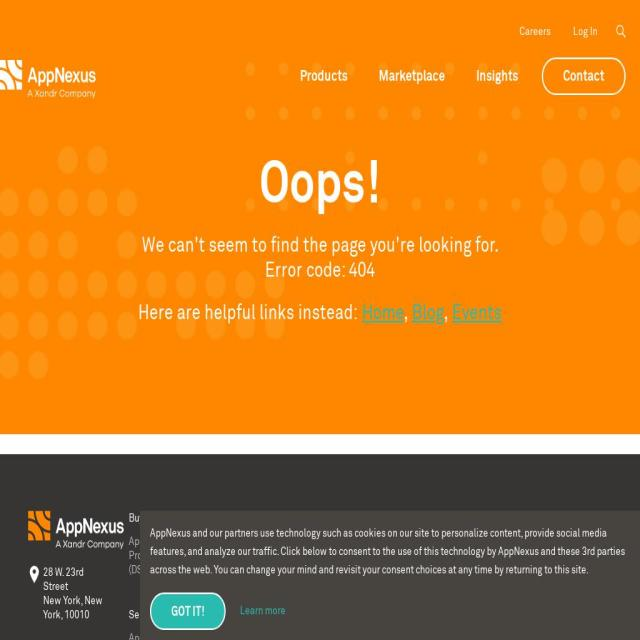button: (379, 37, 445, 111), (128, 535, 231, 577), (300, 37, 348, 111), (542, 57, 626, 95), (476, 37, 518, 111), (0, 60, 96, 90), (429, 554, 512, 583), (329, 592, 411, 621), (429, 535, 512, 549), (429, 588, 512, 602), (429, 607, 512, 621), (429, 626, 512, 640), (329, 535, 411, 549), (329, 554, 411, 568), (329, 574, 411, 588), (530, 535, 612, 549), (530, 554, 612, 568), (530, 574, 612, 588), (530, 592, 612, 606), (530, 612, 612, 626), (128, 631, 230, 640), (248, 535, 310, 549), (248, 554, 310, 568), (530, 631, 612, 640), (520, 25, 550, 37), (573, 25, 598, 37), (616, 25, 626, 37)
heading: (138, 156, 502, 216), (429, 511, 512, 527), (249, 513, 300, 524), (329, 513, 361, 524), (530, 513, 562, 524), (128, 609, 144, 621), (128, 513, 144, 524)
image: (0, 60, 96, 98), (28, 511, 124, 549), (28, 565, 43, 584), (616, 25, 626, 37)
link: (452, 302, 502, 324), (362, 302, 404, 324), (412, 302, 444, 324)
text: (141, 235, 499, 256), (138, 302, 362, 324), (265, 260, 375, 281), (43, 594, 103, 621), (43, 566, 84, 592), (404, 302, 412, 324), (444, 302, 452, 324)
